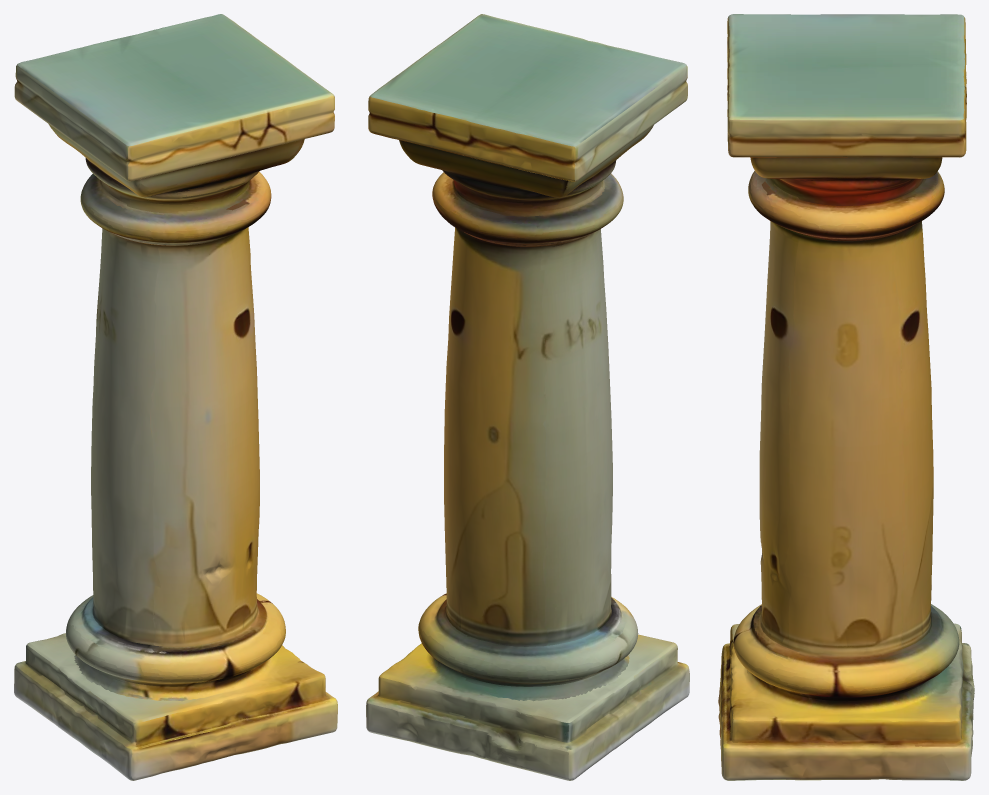
Rendered from weathered-monolith-pillar-generated-2026-04-18t22-01-36-007z-texture-wrap-2026-04-18T22-48-19-209Z.medium.glb.
The picture shows the model from 3 angles, left to right: view 1: azimuth 30°, elevation 25°; view 2: azimuth 150°, elevation 25°; view 3: azimuth 270°, elevation 25°; orthographic projection. The views are drawn at different scales.
Parts seen in each view (by area): view 1: temp_mesh.ply; view 2: temp_mesh.ply; view 3: temp_mesh.ply.
Boxes of the visible parts, x1,y1,x2,y2 form: temp_mesh.ply: (14,14,337,780); temp_mesh.ply: (366,14,689,780); temp_mesh.ply: (718,14,974,780).
Size of the model in its own units: 0.6844 by 1.97 by 0.6911.
1 material, 1 textured.
